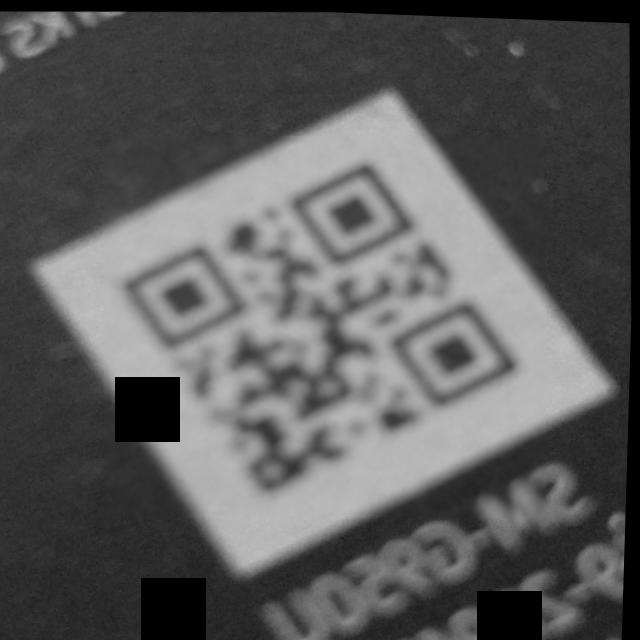QR_CODE: (95, 119, 558, 527)
